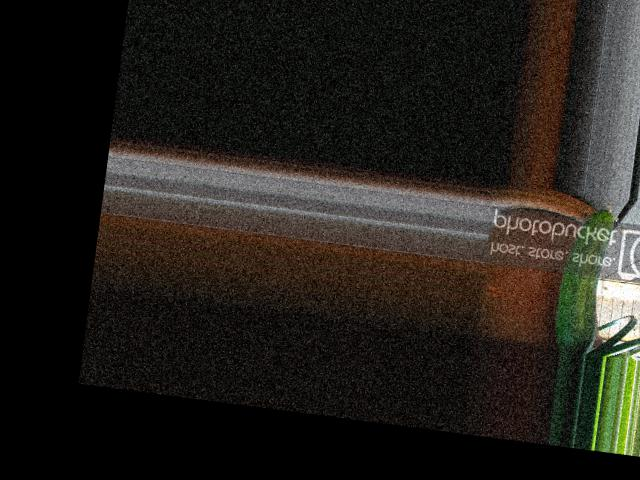cucumber: (552, 198, 616, 354)
